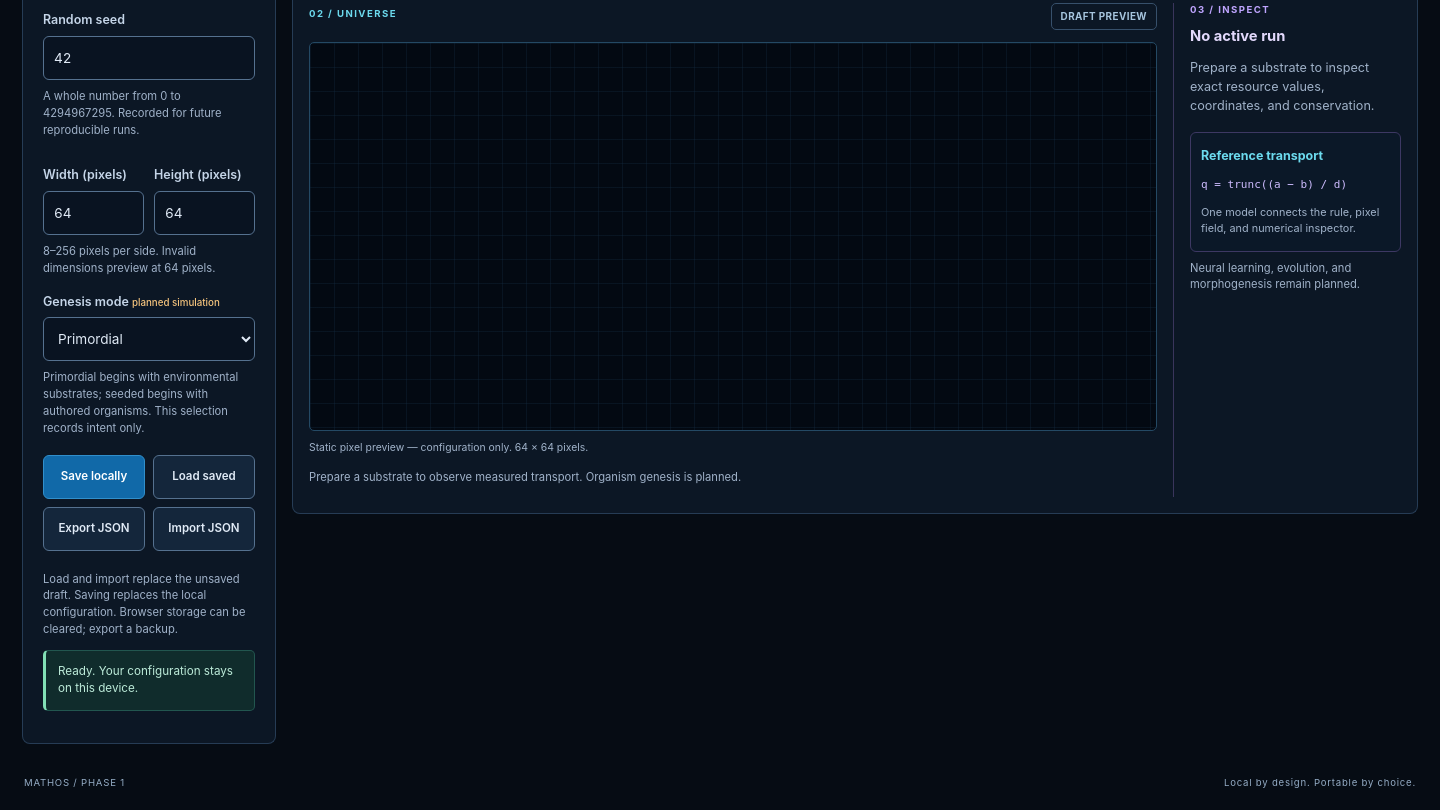
Scenario: configuration workflow › exports validated JSON even when storage is unavailable
(page scrolled)
Step 1. Click the button "Export JSON" → (94, 529), box [43, 507, 145, 551]
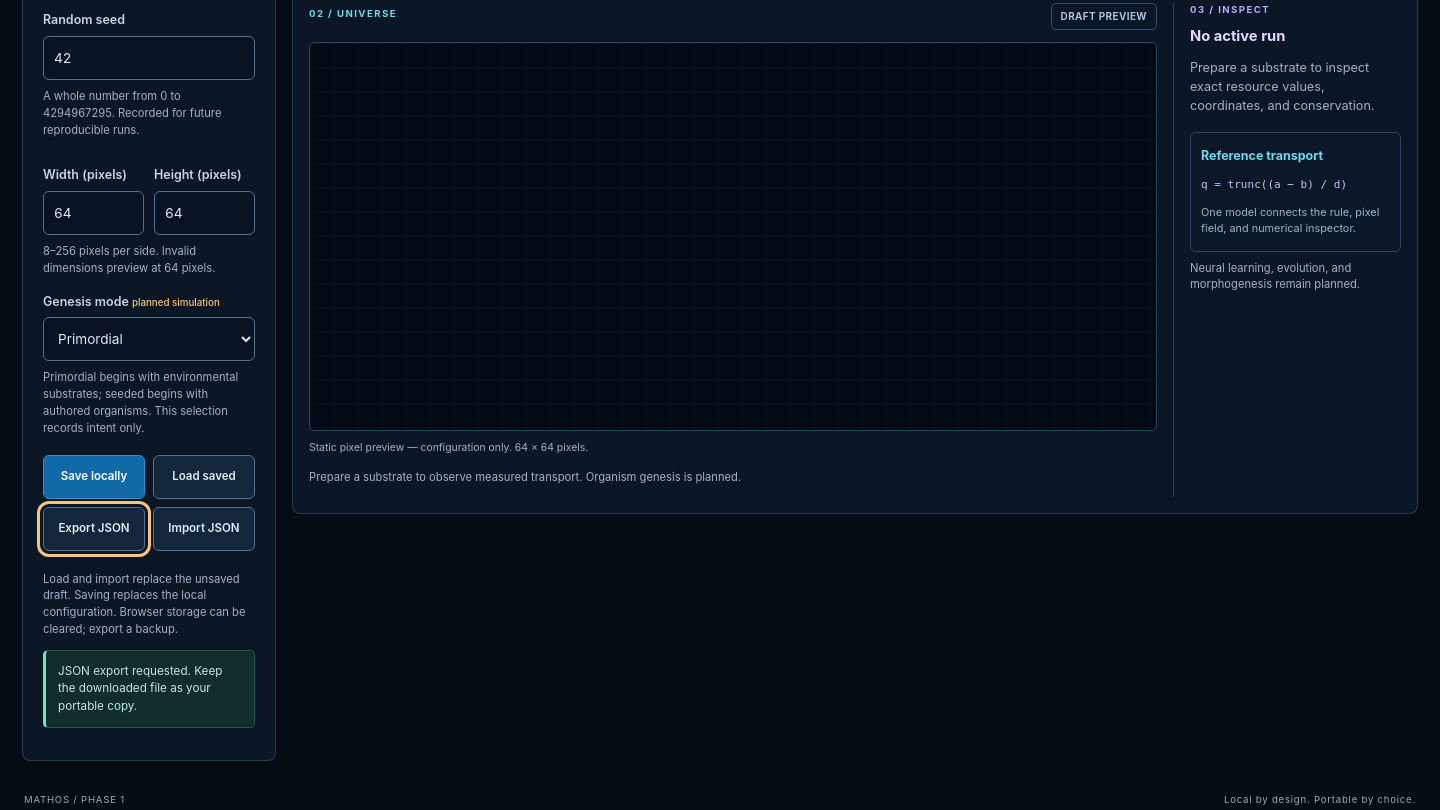
Check: the message shows "export requested", box [58, 664, 222, 713]
